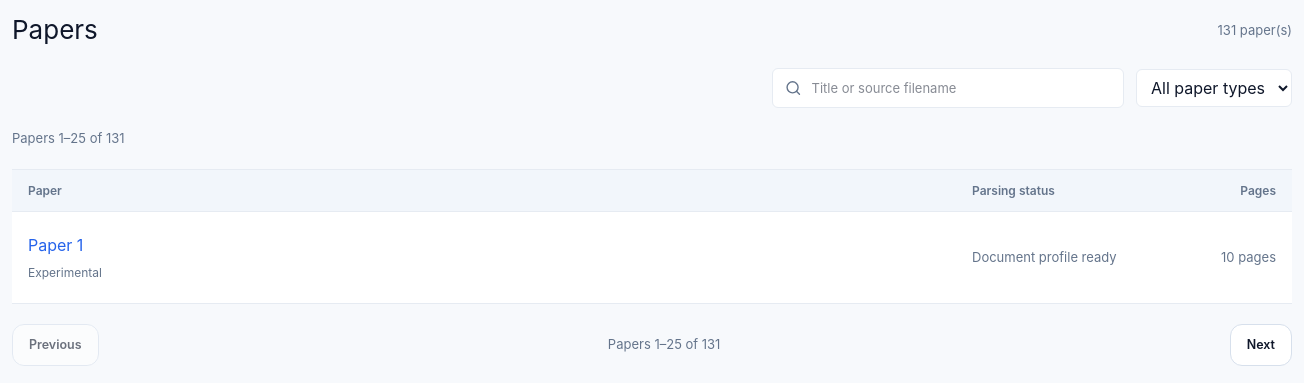
collections/[id]/documents/+page.svelte › filters the collection by paper type
The width and height of the screenshot is (1304, 383).
Select "Review" in the dropdown named "Paper type" at (1214, 88), box [1136,69,1292,107]
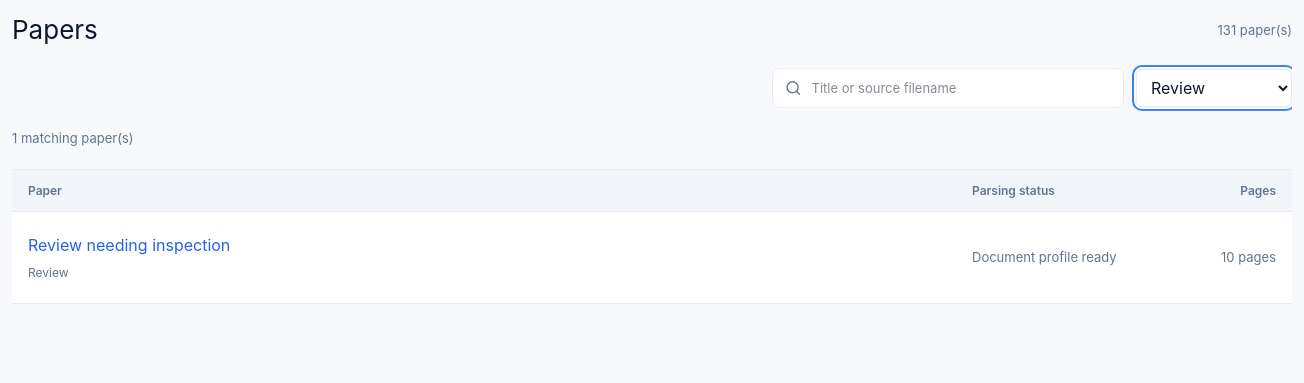
Result: the heading "Review needing inspection" is shown at [28,235,230,255]
